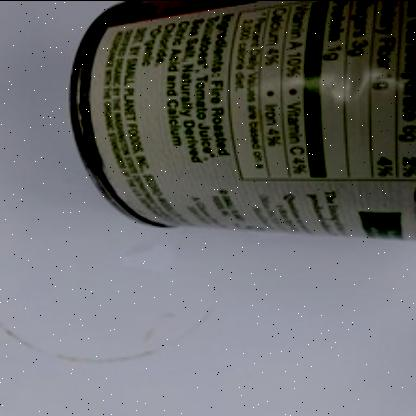Can: (69, 0, 416, 242)
